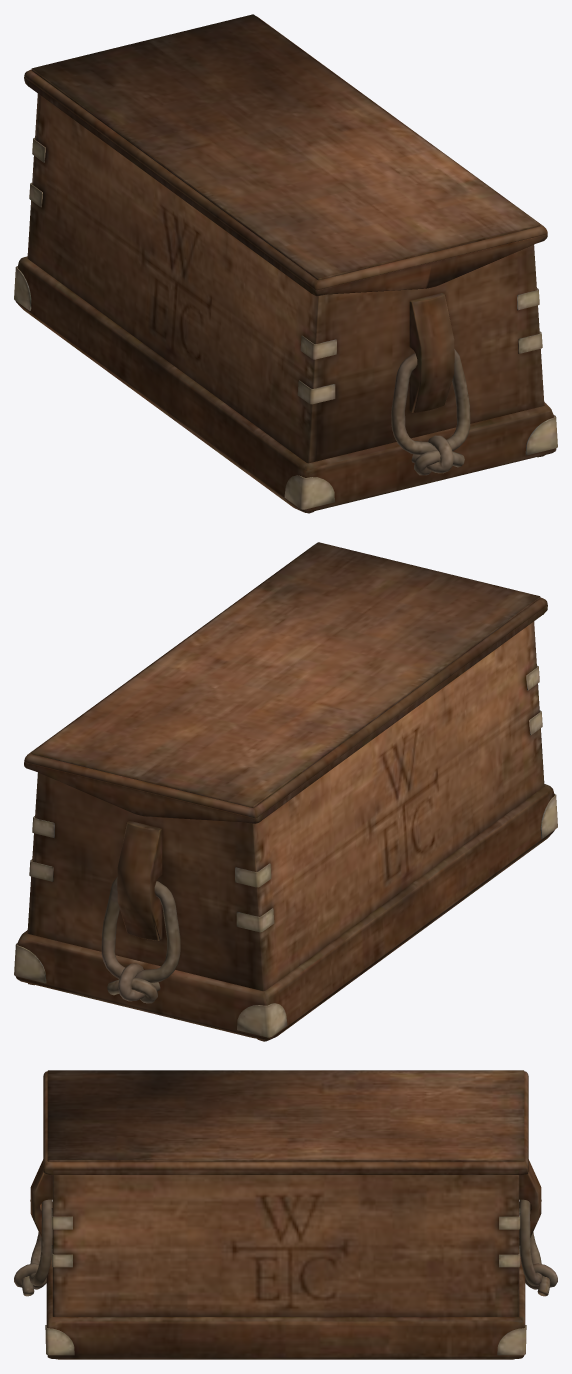
The model's file is wooden_crate_02.glb.
3 views of the same model, one above another, from view 1: azimuth 30°, elevation 25°; view 2: azimuth 150°, elevation 25°; view 3: azimuth 270°, elevation 25° (orthographic). The views are drawn at different scales.
Parts seen in each view (by area): view 1: wooden_crate_02_crate, wooden_crate_02_lid; view 2: wooden_crate_02_crate, wooden_crate_02_lid; view 3: wooden_crate_02_crate, wooden_crate_02_lid.
Part boxes in pixels (box(x1,y1,x2,y2)): wooden_crate_02_crate: box(14, 93, 557, 513); wooden_crate_02_lid: box(24, 14, 547, 296); wooden_crate_02_crate: box(14, 621, 557, 1041); wooden_crate_02_lid: box(24, 542, 547, 823); wooden_crate_02_crate: box(14, 1159, 557, 1359); wooden_crate_02_lid: box(43, 1070, 528, 1174).
Bounding box in the file's own units: 0.5291 × 0.464 × 1.17.
Materials: 1 (1 with a texture image).
